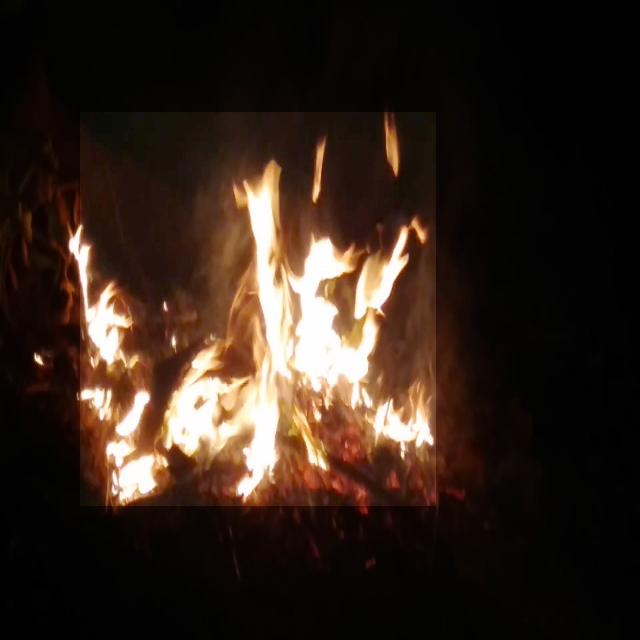Fire: (80, 112, 436, 506)
